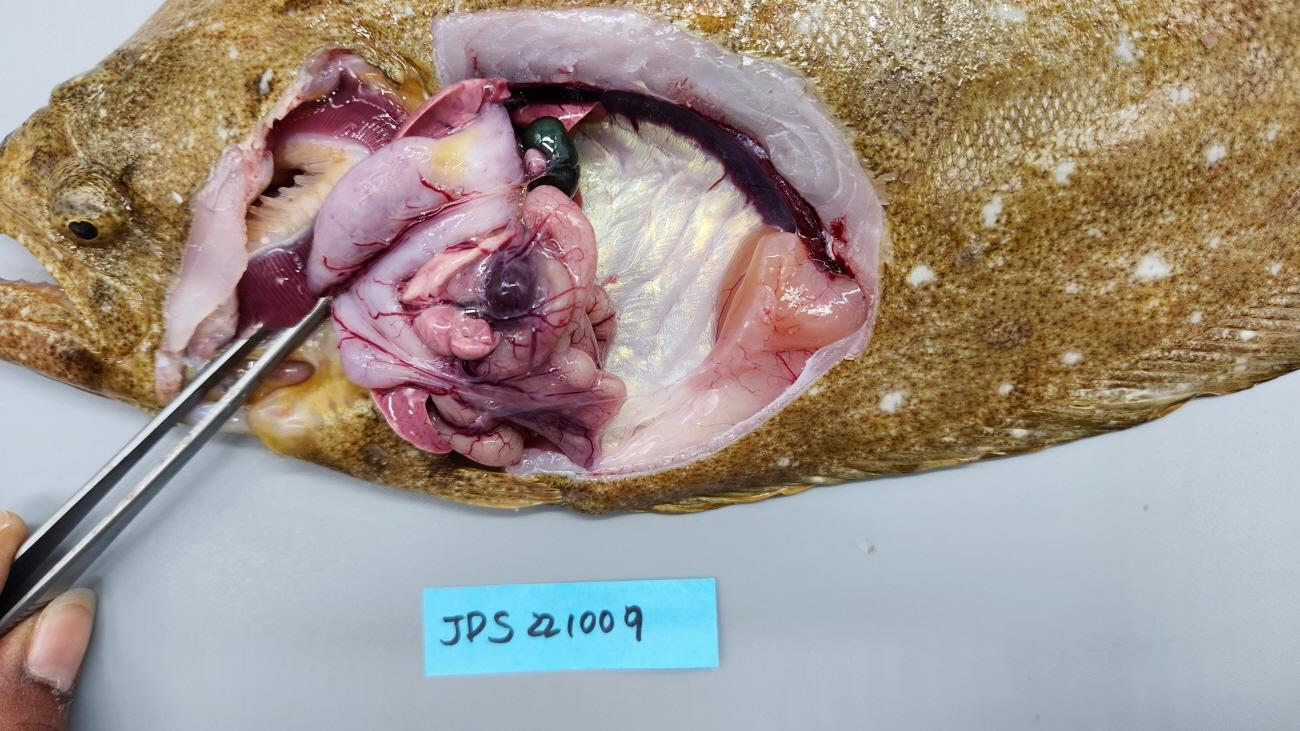POINN: (446, 185, 627, 429)
POSPN: (483, 251, 538, 316)
